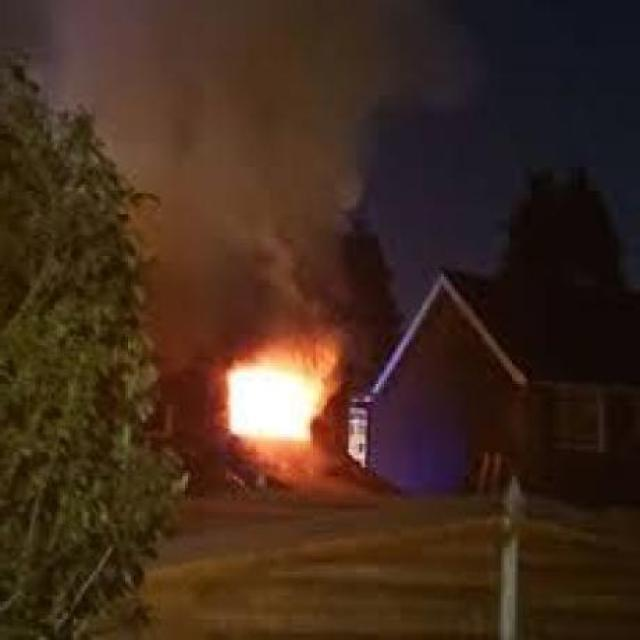Fire: (218, 352, 340, 450)
Smoke: (16, 0, 512, 134), (117, 120, 402, 340)
